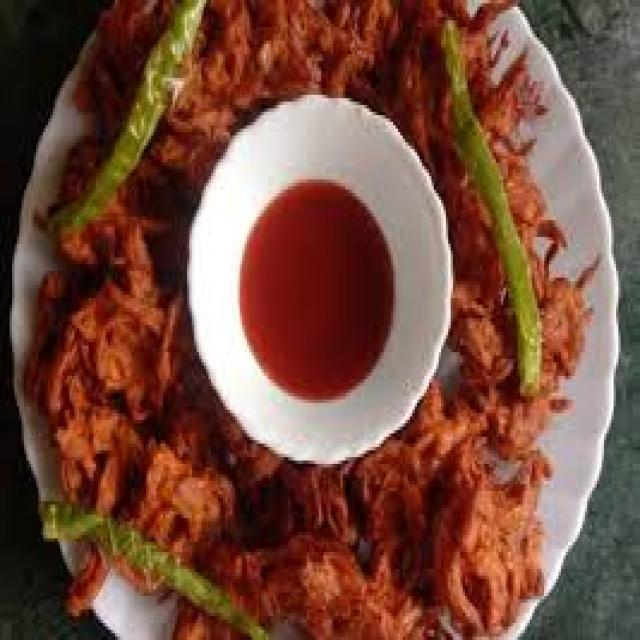BAJI: (54, 0, 588, 452), (55, 410, 550, 637), (34, 228, 198, 503)
